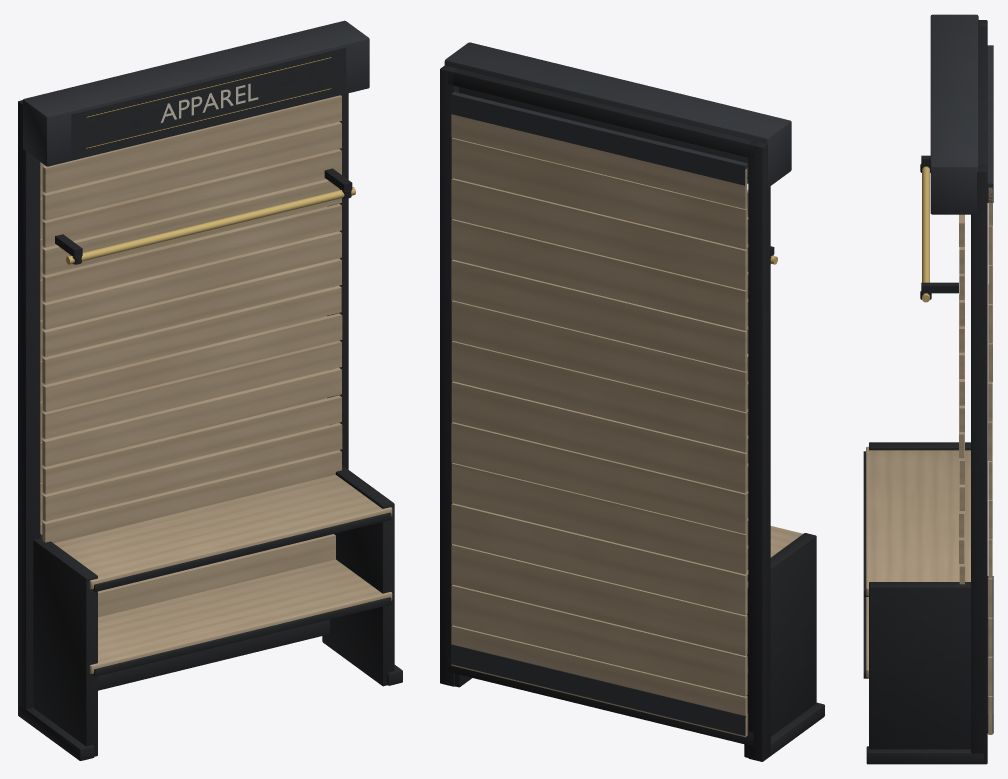
File: apparel_wall.glb
3 views of the same model, side by side, from view 1: azimuth 30°, elevation 25°; view 2: azimuth 150°, elevation 25°; view 3: azimuth 270°, elevation 25° (orthographic). The views are drawn at different scales.
Parts seen in each view (by area): view 1: Slatwall, Folded_Shelf_Upper, Folded_Shelf_Lower, Header, Frame_Upright_L, Header_Sign, Lower_Frame_Side_L, Lower_Frame_Side_R, Frame_BottomRail, Frame_Upright_R, Hanging_Rod, Shelf_Front_Lip_Lower (+4 smaller); view 2: Back_Panel, Frame_Upright_L, Header, Lower_Frame_Side_L, Frame_Upright_R, Back_Rail_Top, Back_Rail_Bottom, Frame_TopRail, Frame_BottomRail, Frame_Foot_L, Slatwall; view 3: Lower_Frame_Side_R, Folded_Shelf_Upper, Frame_Upright_R, Header, Back_Panel, Slatwall, Frame_Foot_R, Frame_TopRail, Back_Rail_Top, Hanging_Rod, Lower_Frame_Side_L, Back_Rail_Bottom (+2 smaller).
Part boxes in pixels (x1=…): Slatwall: x1=42, y1=95, x2=342, y2=617; Folded_Shelf_Upper: x1=41, y1=474, x2=392, y2=589; Folded_Shelf_Lower: x1=89, y1=559, x2=392, y2=673; Header: x1=22, y1=20, x2=369, y2=166; Frame_Upright_L: x1=18, y1=100, x2=40, y2=720; Header_Sign: x1=71, y1=47, x2=346, y2=158; Lower_Frame_Side_L: x1=33, y1=534, x2=97, y2=756; Lower_Frame_Side_R: x1=322, y1=465, x2=394, y2=686; Frame_BottomRail: x1=98, y1=619, x2=329, y2=690; Frame_Upright_R: x1=326, y1=93, x2=348, y2=469; Hanging_Rod: x1=66, y1=187, x2=355, y2=264; Shelf_Front_Lip_Lower: x1=92, y1=597, x2=391, y2=676; Back_Panel: x1=451, y1=114, x2=747, y2=737; Frame_Upright_L: x1=748, y1=141, x2=770, y2=761; Header: x1=444, y1=42, x2=791, y2=186; Lower_Frame_Side_L: x1=744, y1=533, x2=816, y2=757; Frame_Upright_R: x1=440, y1=65, x2=458, y2=686; Back_Rail_Top: x1=451, y1=92, x2=748, y2=185; Back_Rail_Bottom: x1=451, y1=644, x2=748, y2=735; Frame_TopRail: x1=448, y1=68, x2=753, y2=158; Frame_BottomRail: x1=448, y1=658, x2=753, y2=745; Frame_Foot_L: x1=764, y1=702, x2=824, y2=760; Slatwall: x1=746, y1=189, x2=748, y2=569; Lower_Frame_Side_R: x1=869, y1=582, x2=970, y2=749; Folded_Shelf_Upper: x1=866, y1=446, x2=970, y2=596; Frame_Upright_R: x1=971, y1=165, x2=987, y2=764; Header: x1=930, y1=14, x2=978, y2=214; Back_Panel: x1=988, y1=187, x2=992, y2=734; Slatwall: x1=959, y1=214, x2=964, y2=584; Frame_Foot_R: x1=866, y1=746, x2=983, y2=764; Frame_TopRail: x1=978, y1=24, x2=987, y2=167; Back_Rail_Top: x1=987, y1=45, x2=993, y2=202; Hanging_Rod: x1=922, y1=166, x2=929, y2=302; Lower_Frame_Side_L: x1=869, y1=442, x2=970, y2=450; Back_Rail_Bottom: x1=987, y1=576, x2=993, y2=733.
Bounding box in the file's own units: 1.2 × 2.2 × 0.45.
7 materials, 5 textured.
